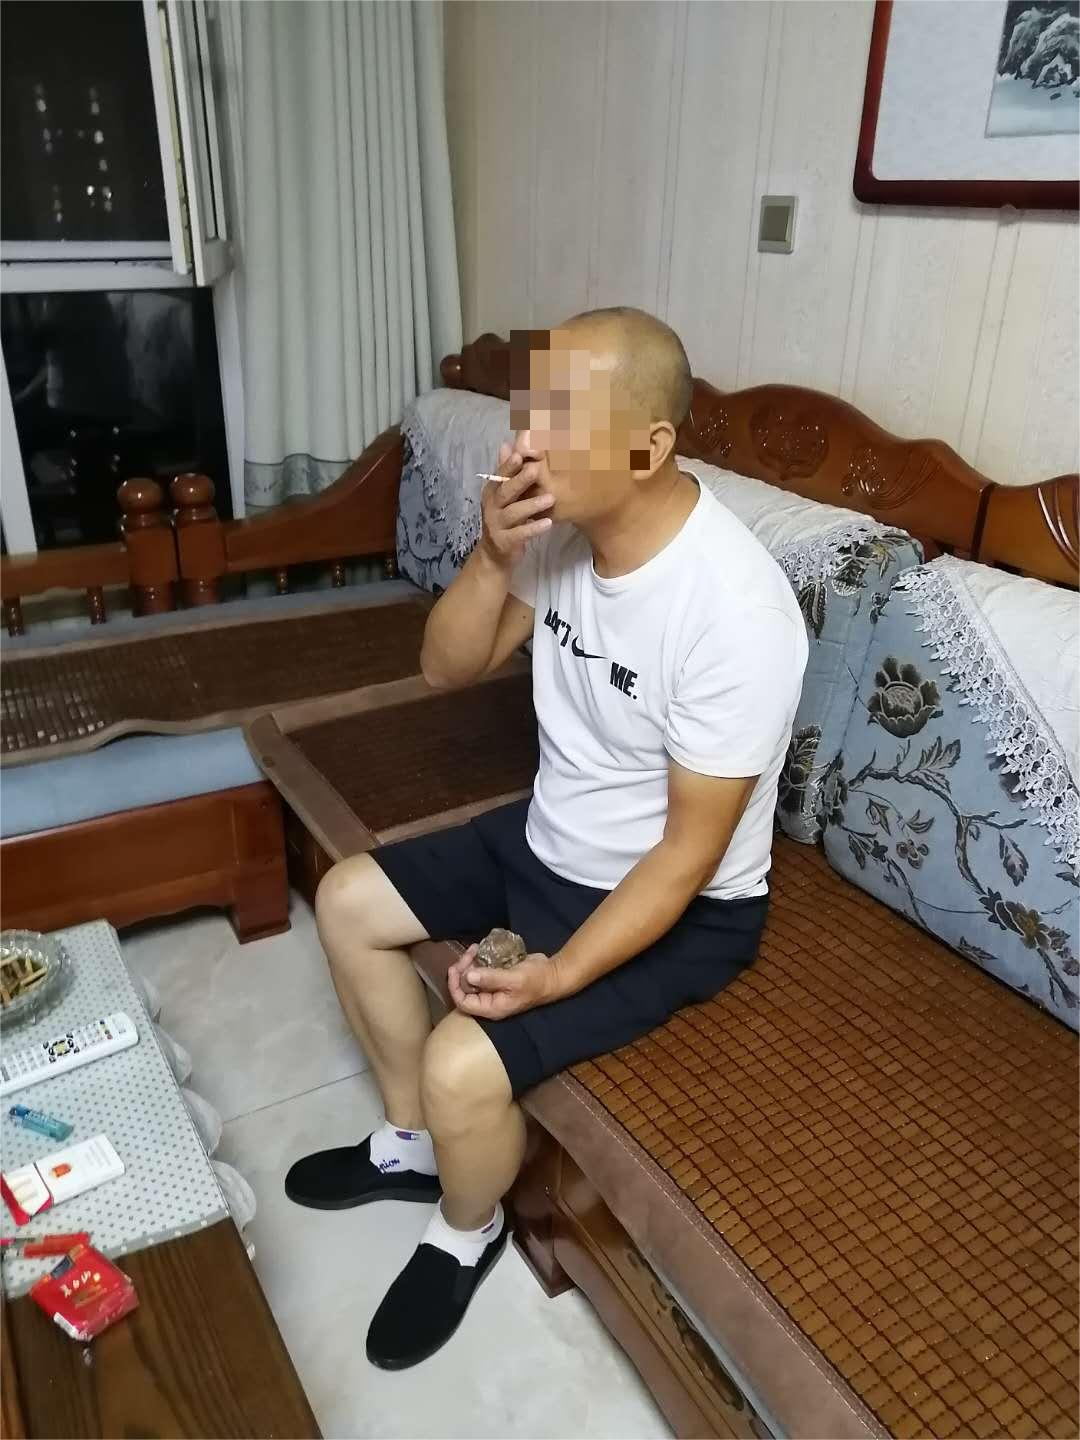smoke: (473, 471, 512, 488)
